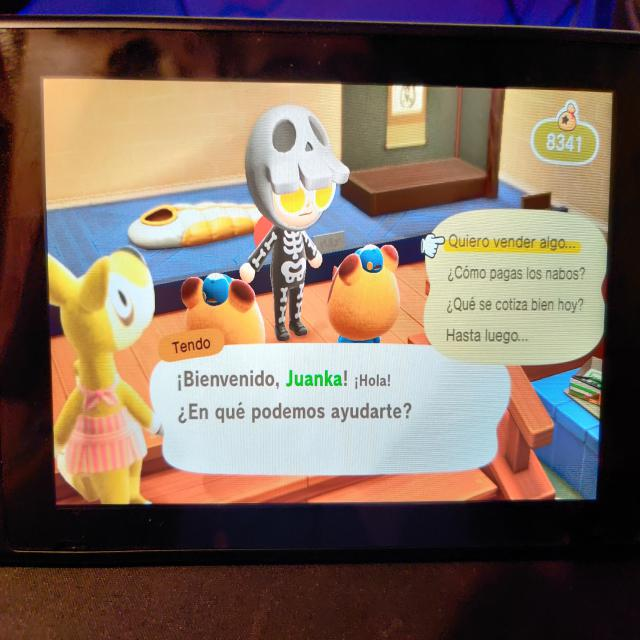text_bubble: (149, 327, 517, 481), (420, 206, 612, 371)
